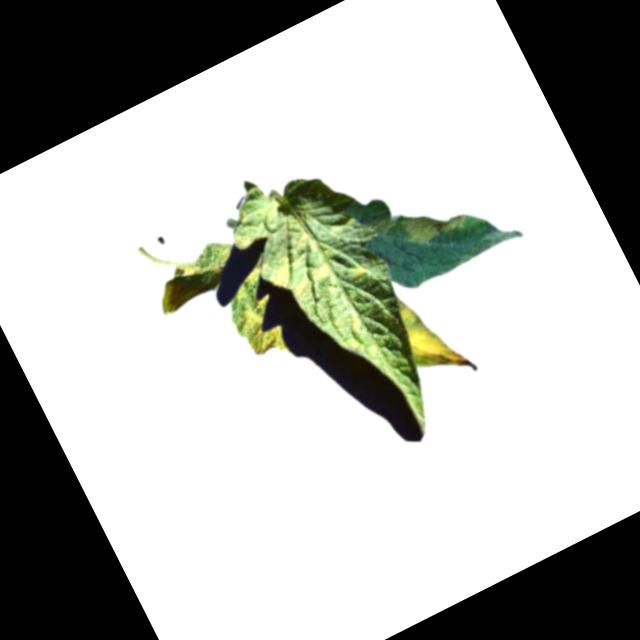Leaf_Mold: (386, 280, 478, 391), (257, 226, 340, 309), (395, 183, 479, 254), (225, 291, 293, 370)
